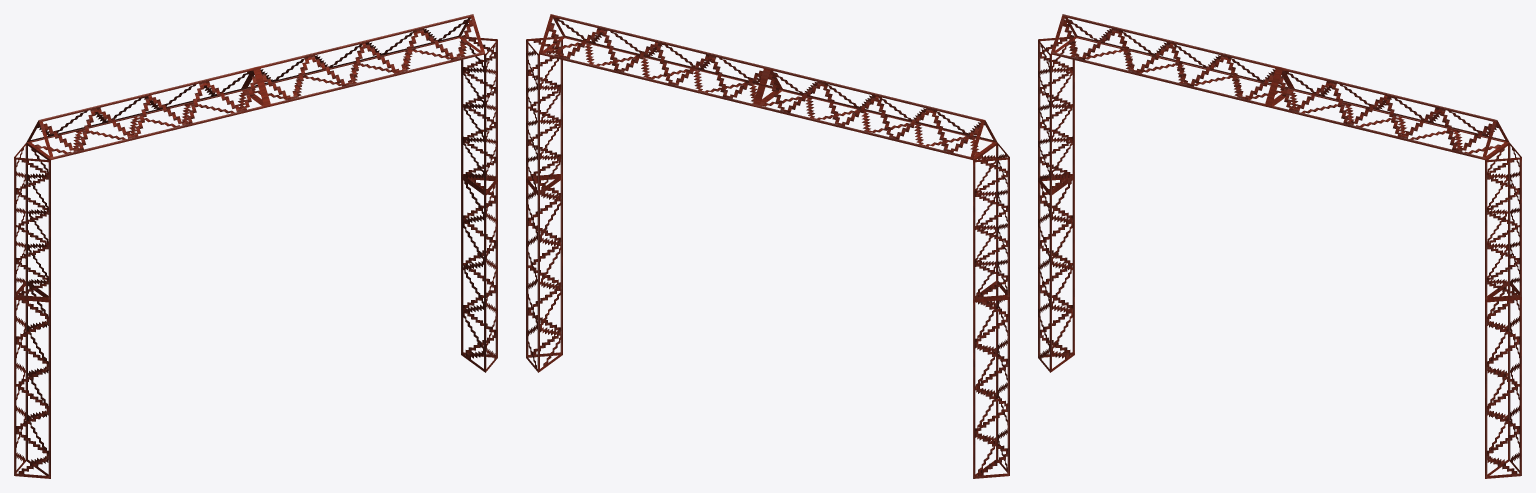
Rendered from CountdownStrut.FBX.
The picture shows the model from 3 angles, left to right: view 1: azimuth 30°, elevation 25°; view 2: azimuth 150°, elevation 25°; view 3: azimuth 330°, elevation 25°; orthographic projection.
Parts seen in each view (by area): view 1: startline_strut; view 2: startline_strut; view 3: startline_strut.
Boxes of the visible parts, x1,y1,x2,y2 form: startline_strut: [14, 14, 497, 478]; startline_strut: [526, 14, 1009, 478]; startline_strut: [1038, 14, 1521, 478].
Bounding box in the file's own units: 8.57 × 5.92 × 0.7488.
1 material, 1 textured.
